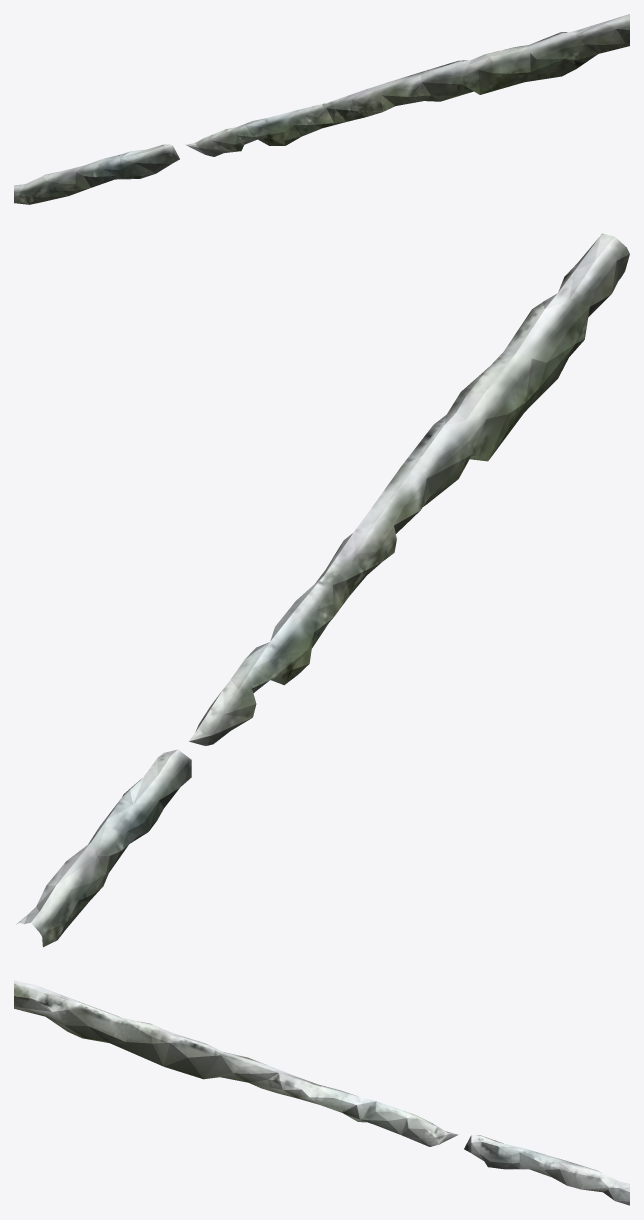
3 views of the same model, one above another, from view 1: azimuth 90°, elevation 25°; view 2: azimuth 150°, elevation 25°; view 3: azimuth 270°, elevation 25° (orthographic). The views are drawn at different scales.
Size of the model in its own units: 0.3082 by 1.08 by 2.95.
1 material, 1 textured.
